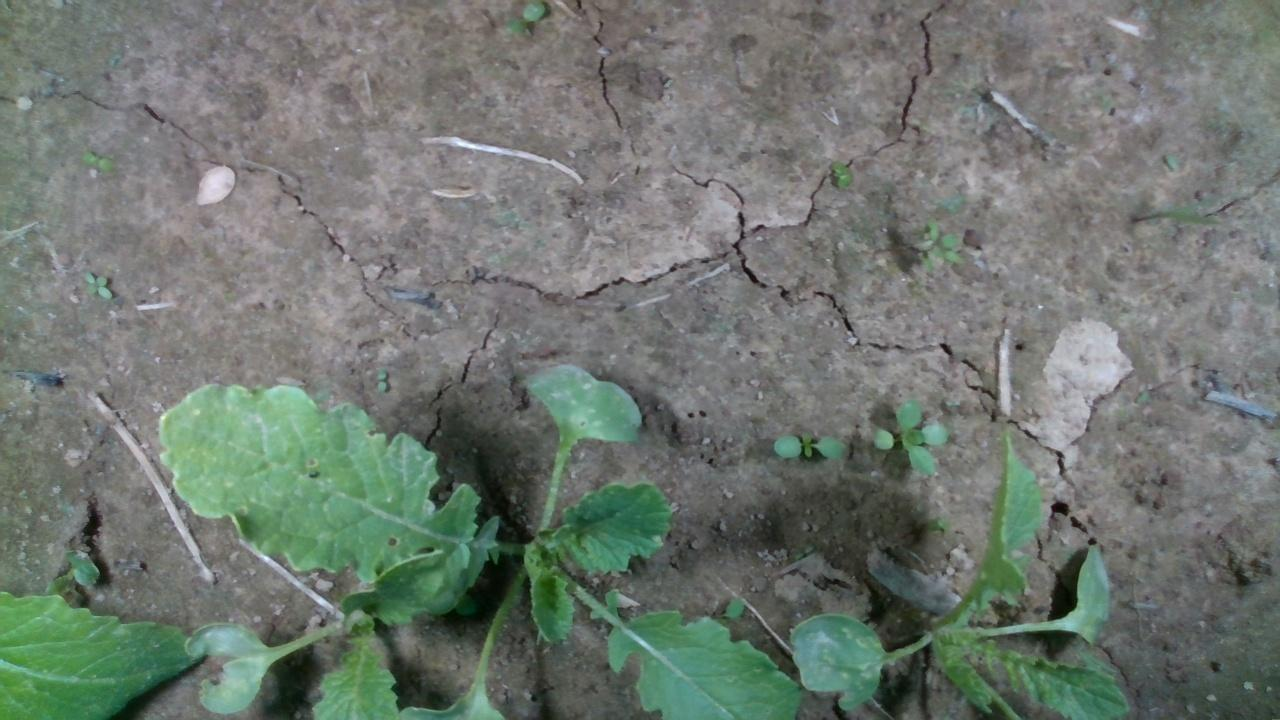weed: (772, 429, 848, 462), (80, 269, 112, 300), (828, 158, 854, 191), (81, 151, 115, 172), (374, 369, 389, 392)
